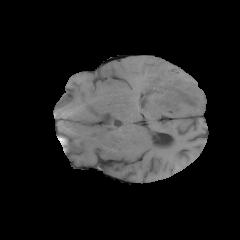glioma: (138, 65, 206, 134)
